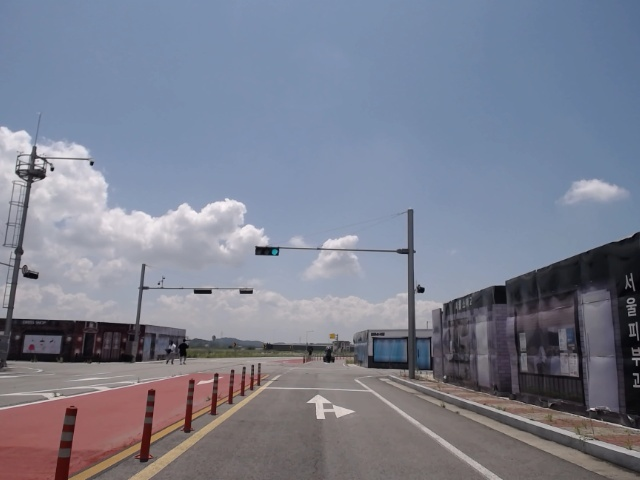green_3: (255, 246, 280, 254)
